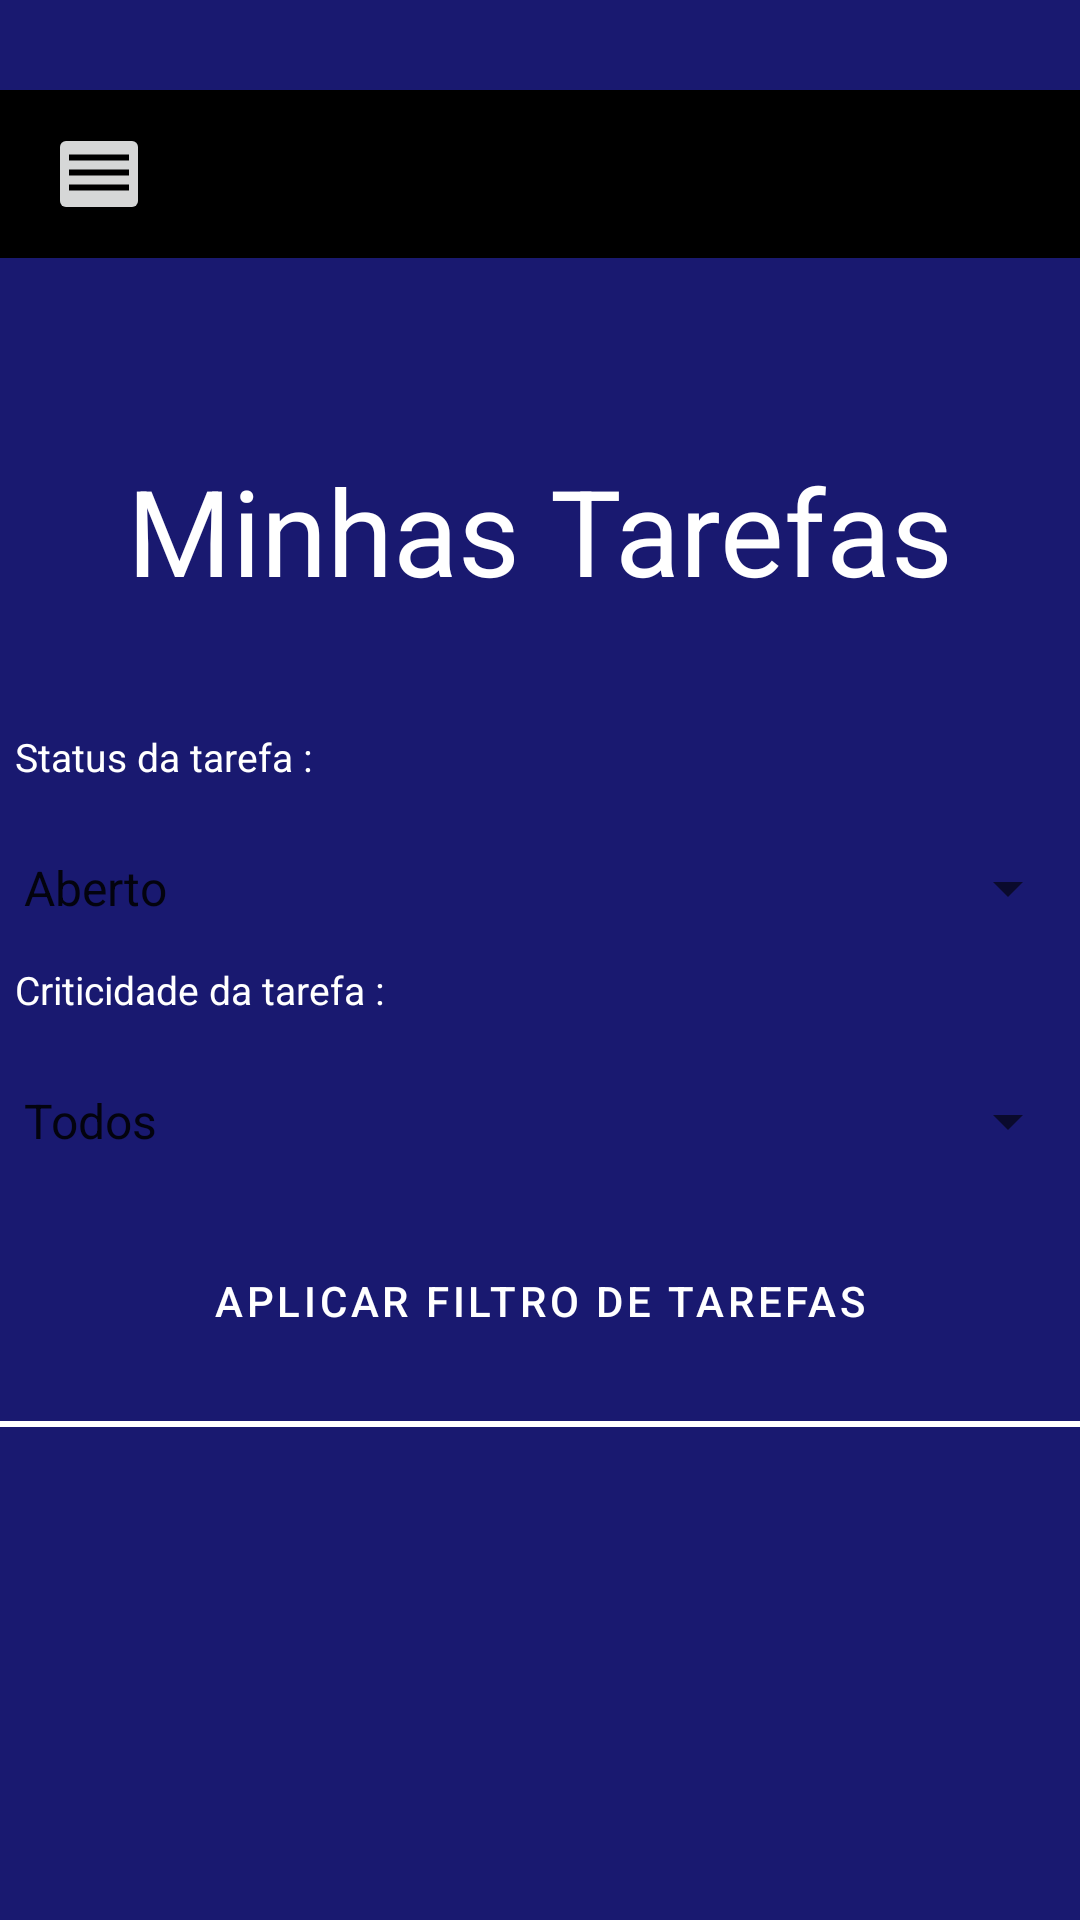

Icon click points for this 1080w x 1920h phone screenshot, format (x=x, y=y):
menu: (x=99, y=174)
